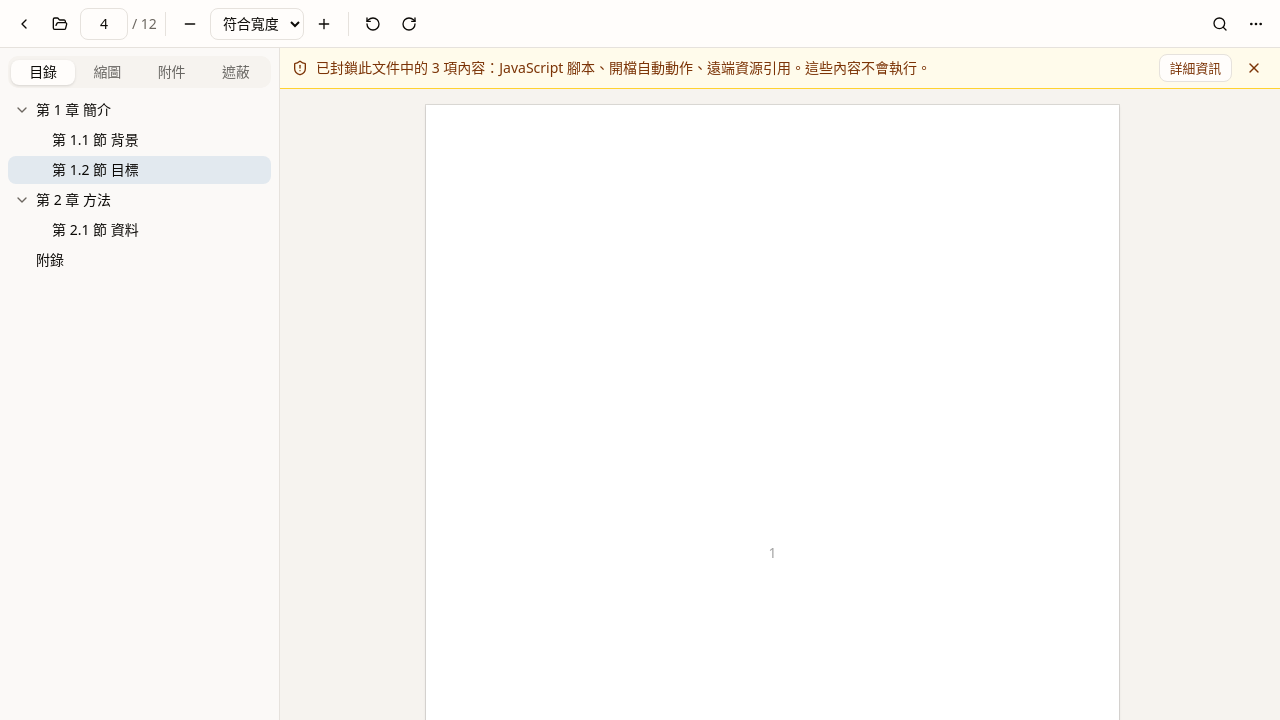
making a PDF of files (B3-03) › is in the menu of an open document too, and tells where the PDF is when it is made
Click the button named "更多" at (1256, 24), box left=1240, top=8, right=1272, bottom=40
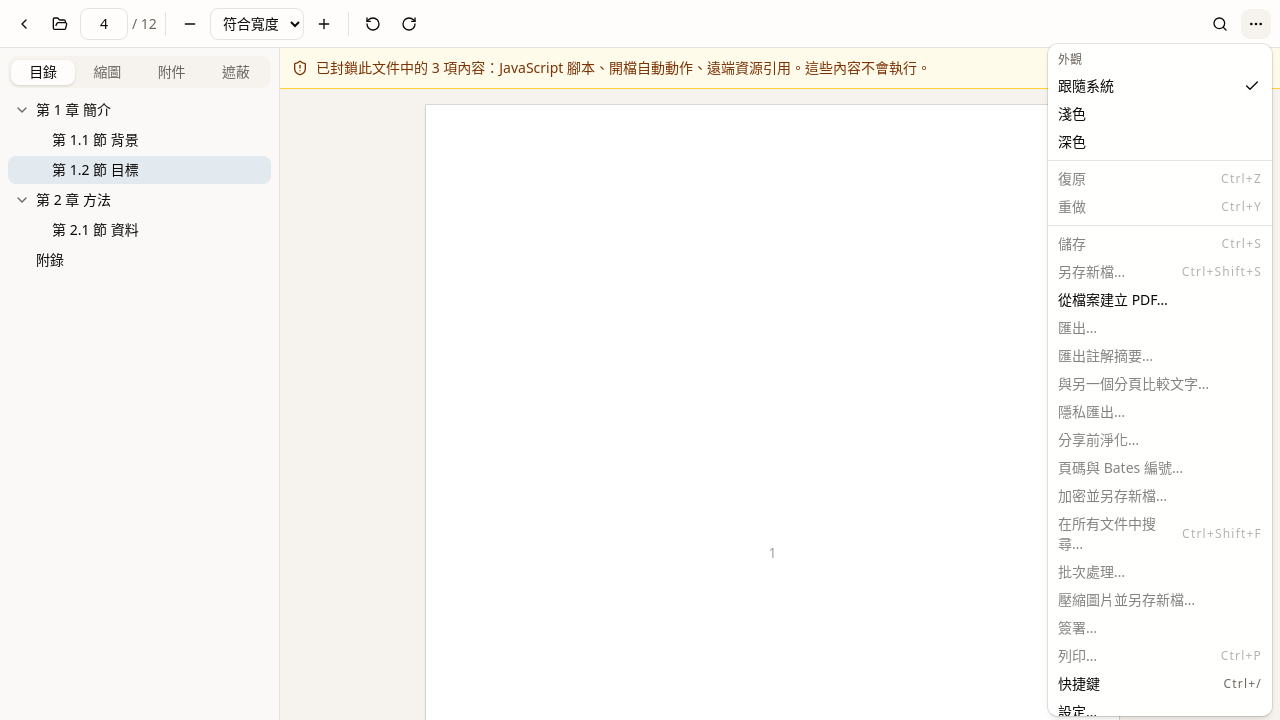
Click the menu item "從檔案建立 PDF…" at (1113, 300), box left=1058, top=290, right=1168, bottom=309
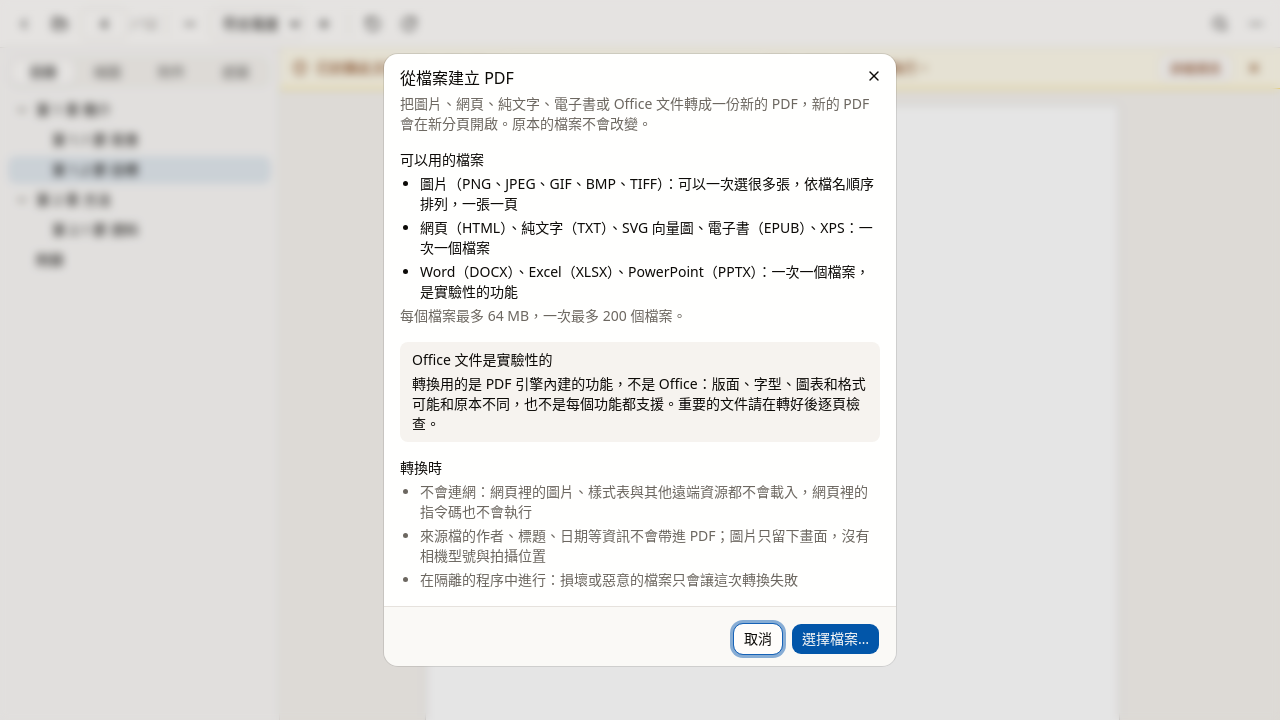
Click the button "選擇檔案…" at (835, 639), box left=791, top=623, right=880, bottom=655
(page scrolled)
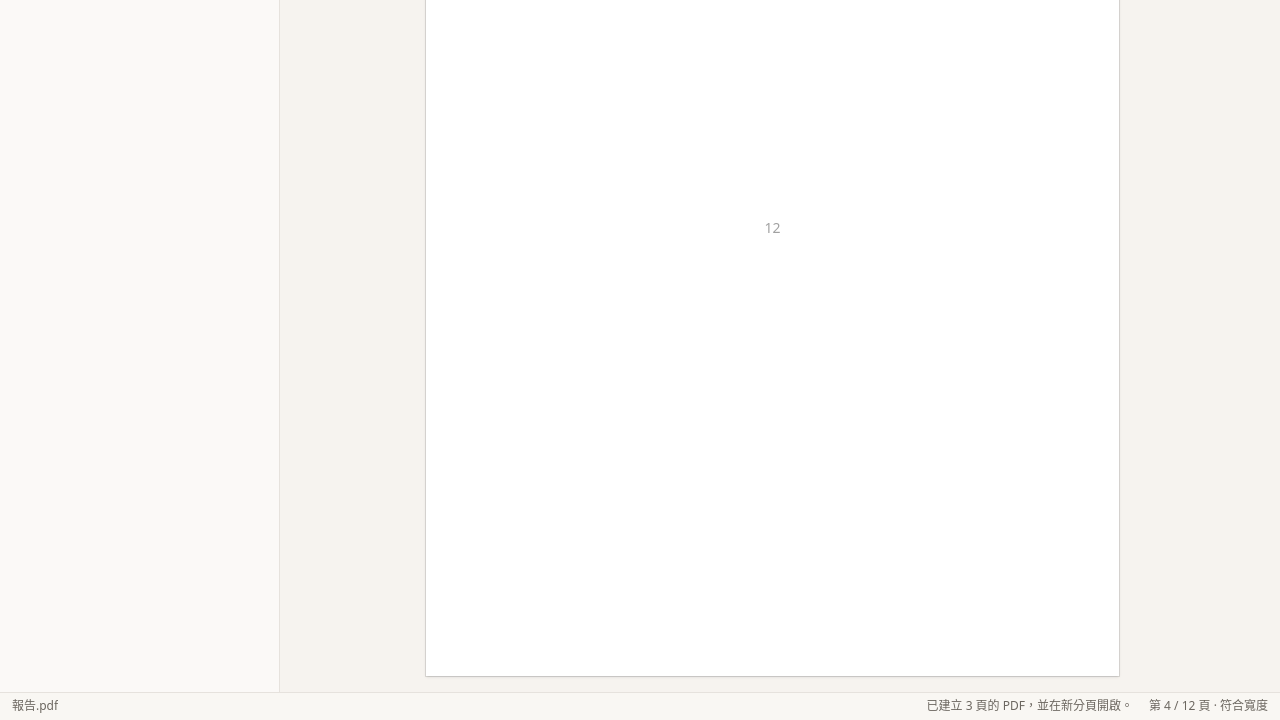
Expected: the dialog is gone
